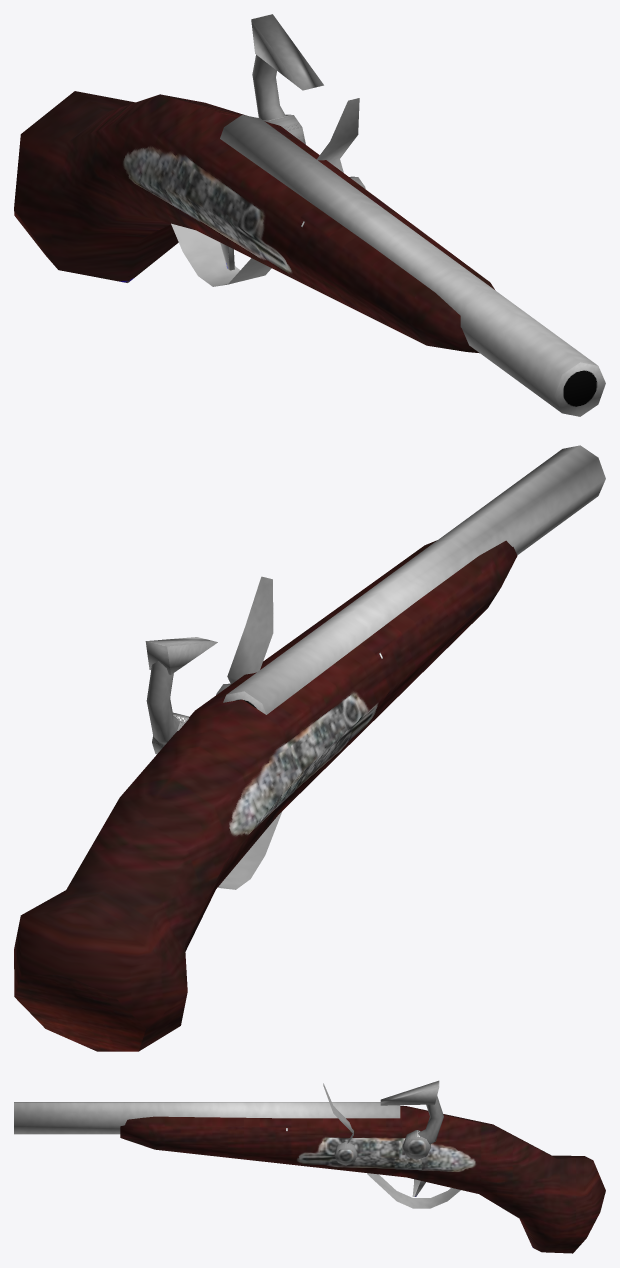
The model's file is Pirate.obj.
3 renders of one model, top to bottom at view 1: azimuth 30°, elevation 25°; view 2: azimuth 150°, elevation 25°; view 3: azimuth 270°, elevation 25°, orthographic. The views are drawn at different scales.
Visible parts, largest first — view 1: Gun; view 2: Gun; view 3: Gun.
Boxes of the visible parts, left/top/right/bottom form: Gun: left=14, top=14, right=605, bottom=416; Gun: left=14, top=445, right=605, bottom=1051; Gun: left=14, top=1080, right=605, bottom=1253.
Size of the model in its own units: 10.2 by 17.59 by 52.4.
1 material, 1 textured.
